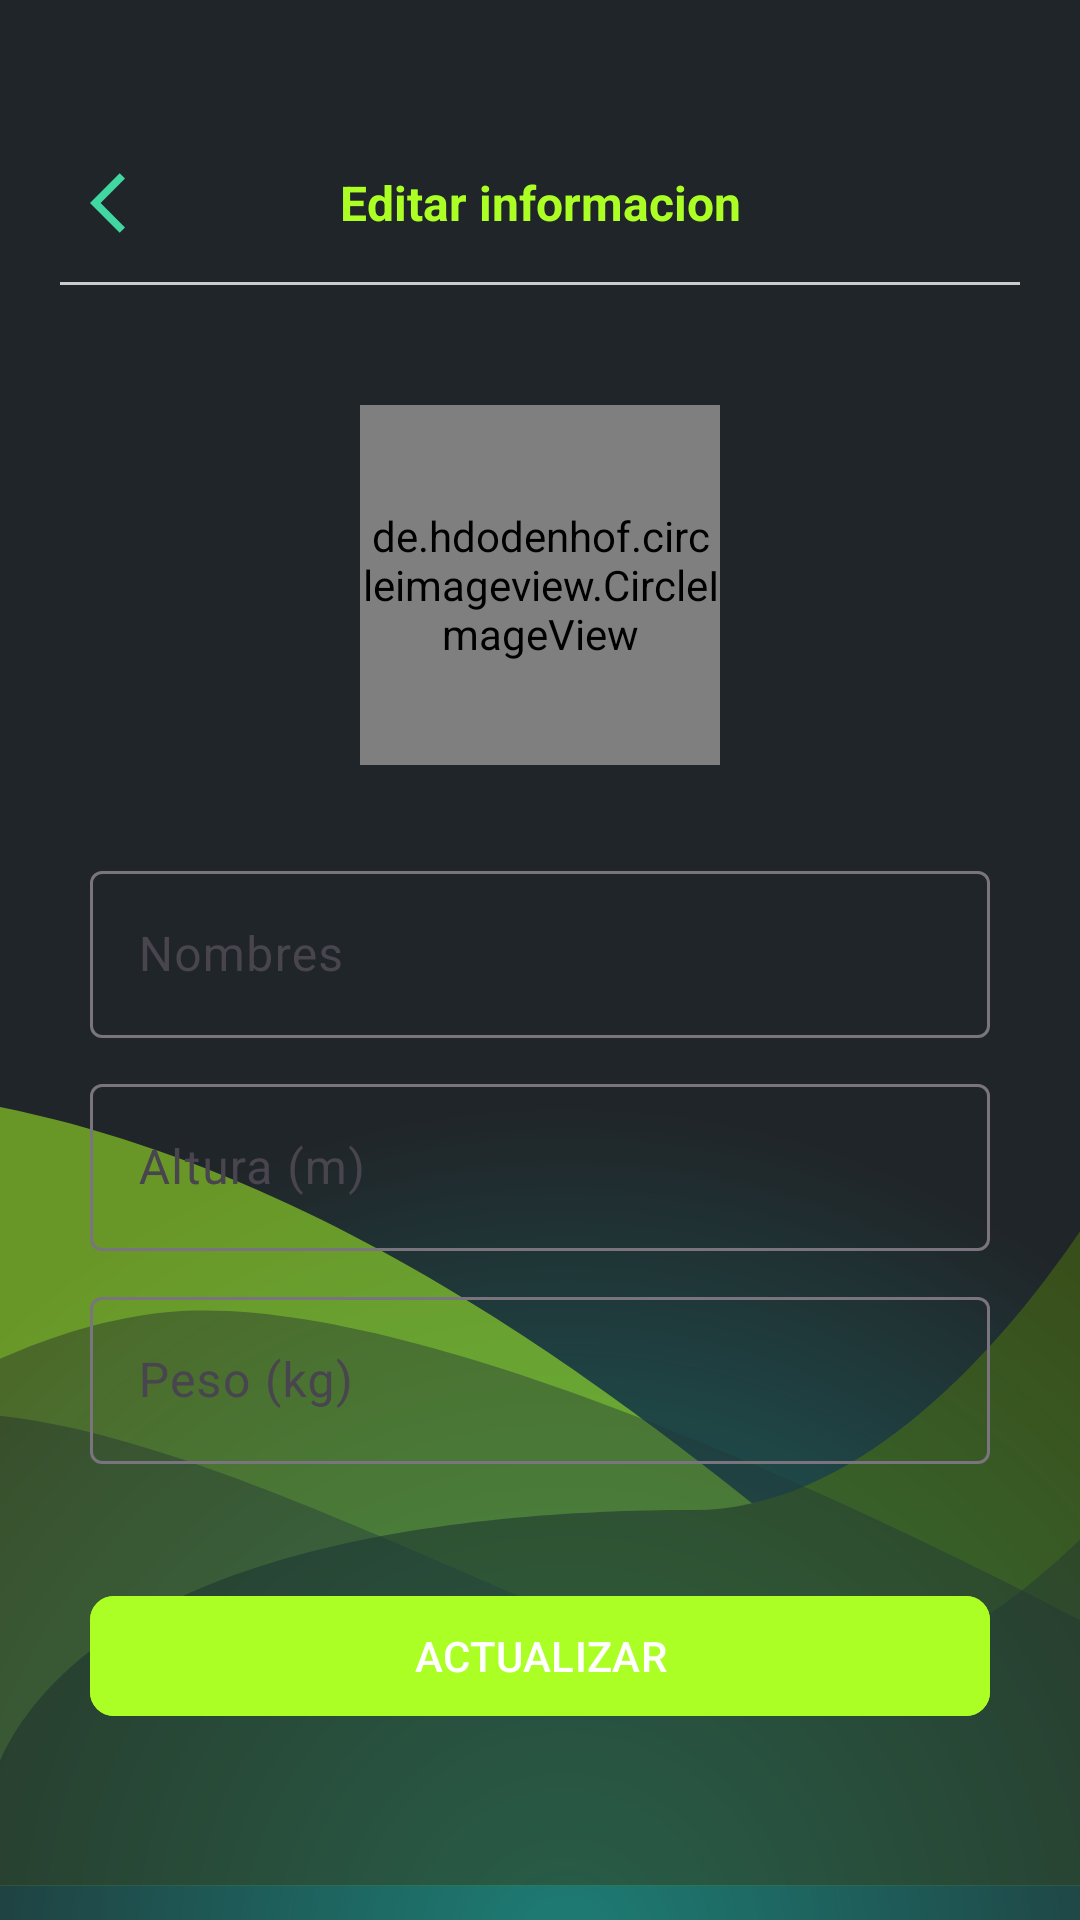

Where to tap for icons on this 1080px×1920px app screen, as (x,y):
regresar: (107,203)
